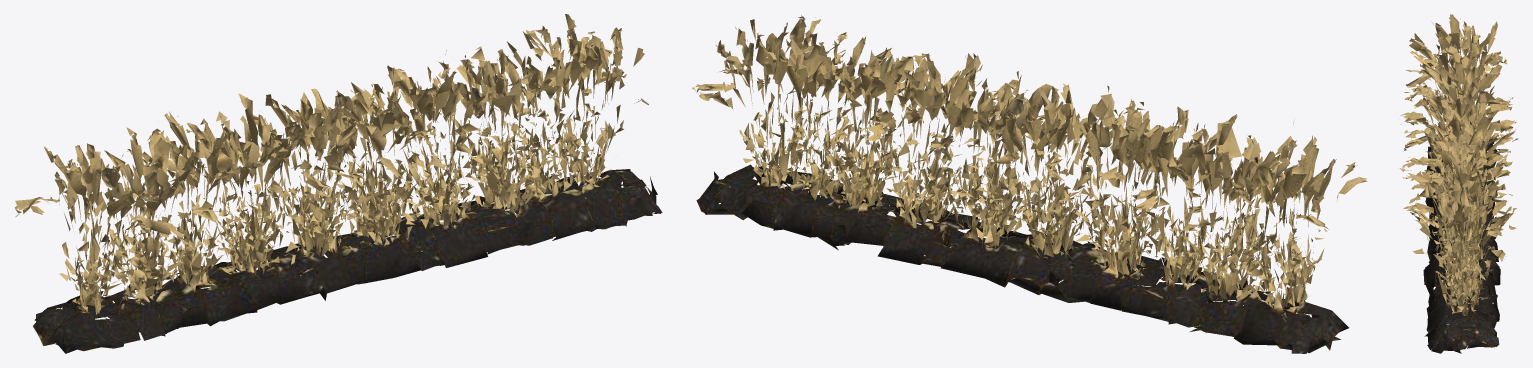
File: wheat-row.glb
The picture shows the model from 3 angles, left to right: view 1: azimuth 30°, elevation 25°; view 2: azimuth 150°, elevation 25°; view 3: azimuth 270°, elevation 25°; orthographic projection. The views are drawn at different scales.
Visible parts, largest first — view 1: Mesh_0; view 2: Mesh_0; view 3: Mesh_0.
Part boxes in pixels (x1,y1,x2,y2): Mesh_0: [14, 14, 662, 353]; Mesh_0: [691, 15, 1367, 353]; Mesh_0: [1399, 14, 1517, 353].
Bounding box in the file's own units: 3.03 × 0.9202 × 0.7143.
Materials: 1 (1 with a texture image).
